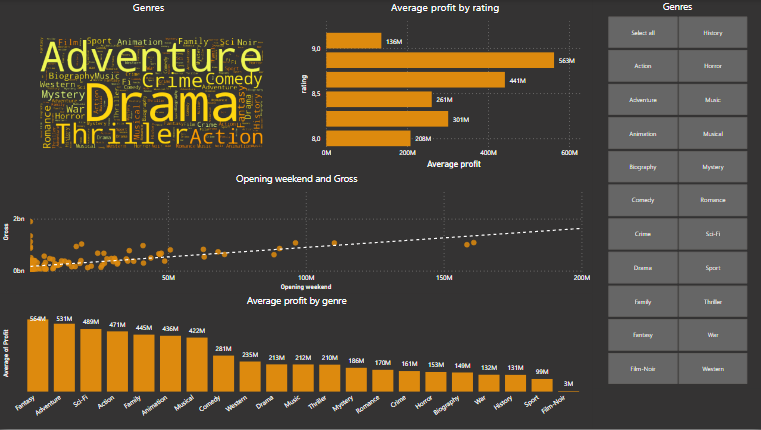

Layout of this report page (visuals, bound fields, positions):
{"tool":"powerbi","page":{"name":"Genres and Profit","canvas":[1280,720],"ordinal":1},"visuals":[{"type":"pythonVisual","title":"Genres","fields":{"Values":["movies_genres.genre","movies_genres.Index"]},"box":[0,0,498.9,289.1],"z":0},{"type":"columnChart","title":"Average  profit by genre","fields":{"Category":["movies_genres.genre"],"Y":["Avg(movies_main.Profit)"]},"box":[0,493.2,996.4,226.8],"z":1000},{"type":"scatterChart","fields":{"Y":["movies_main.Gross"],"X":["movies_main.Opening weekend"]},"box":[0,289.1,996.4,204.1],"z":2000},{"type":"slicer","title":"Genres","fields":{"Values":["movies_genres.genre"]},"box":[996.4,0,283.5,652],"z":3000},{"type":"clusteredBarChart","title":"Average profit by rating ","fields":{"Category":["movies_main.rating (bins)"],"Y":["Avg(movies_main.Profit)"]},"box":[498.9,0,497.5,287.7],"z":4000}]}

Visuals, with their boxes in screenshot pixels (x1, y1, x2, y2), scaled from the page's 1280x720 canvas onto the 761x430 screenshot:
"Genres" pythonVisual: {"x1": 0, "y1": 0, "x2": 297, "y2": 173}
"Average  profit by genre" columnChart: {"x1": 0, "y1": 295, "x2": 592, "y2": 429}
scatterChart - movies_main.Gross x movies_main.Opening weekend: {"x1": 0, "y1": 173, "x2": 592, "y2": 295}
"Genres" slicer: {"x1": 592, "y1": 0, "x2": 760, "y2": 389}
"Average profit by rating " clusteredBarChart: {"x1": 297, "y1": 0, "x2": 592, "y2": 172}
